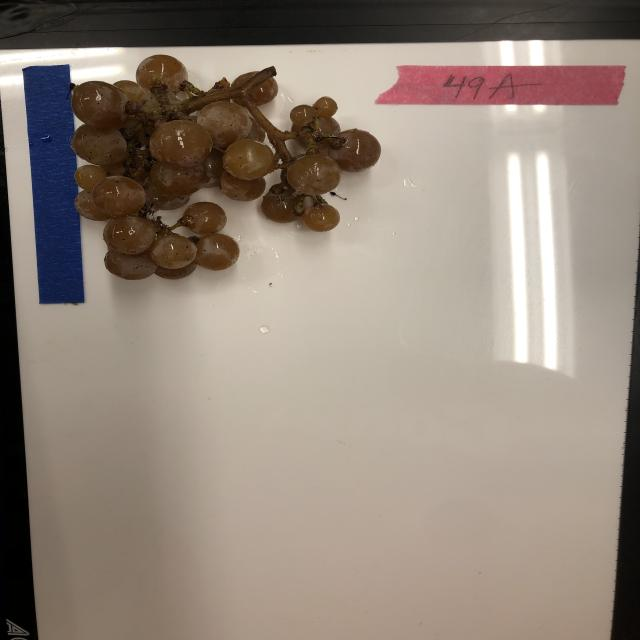grape_cluster: (68, 52, 383, 284)
index: (373, 62, 630, 107)
measure_label: (23, 62, 87, 307)
